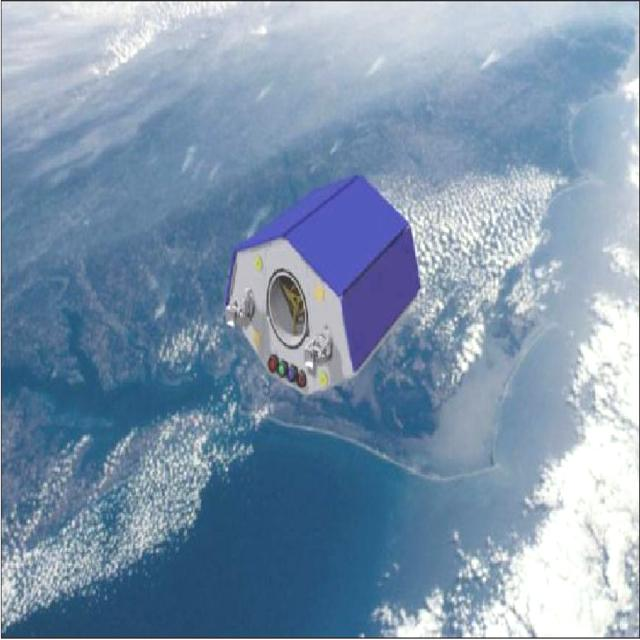medium_debris: (203, 161, 432, 407)
